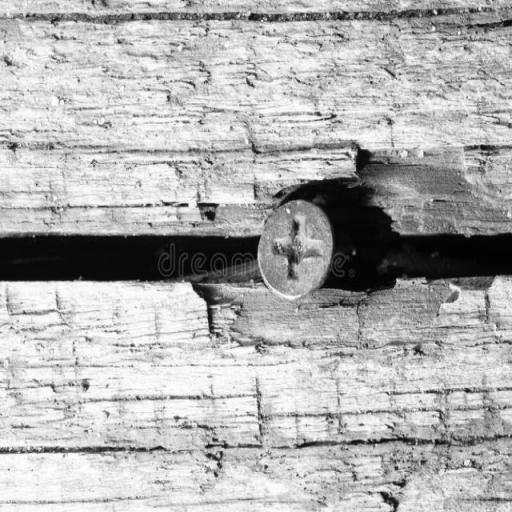Phillips: (251, 197, 338, 303)
